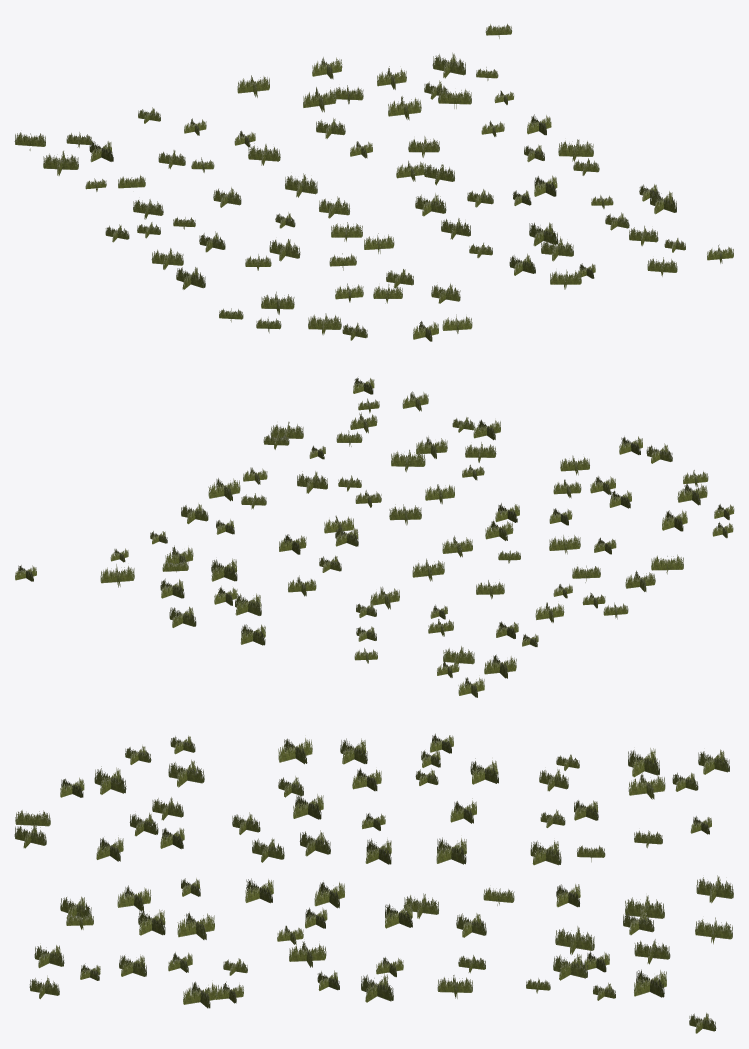
File: grass.FBX
3 renders of one model, top to bottom at view 1: azimuth 30°, elevation 25°; view 2: azimuth 150°, elevation 25°; view 3: azimuth 270°, elevation 25°, orthographic. The views are drawn at different scales.
Visible parts, largest first — view 1: grass; view 2: grass; view 3: grass.
Part boxes in pixels (x1=…): grass: x1=14, y1=23, x2=733, y2=341; grass: x1=15, y1=377, x2=734, y2=697; grass: x1=14, y1=733, x2=733, y2=1033.
Bounding box in the file's own units: 1120 × 1175 × 46.14.
